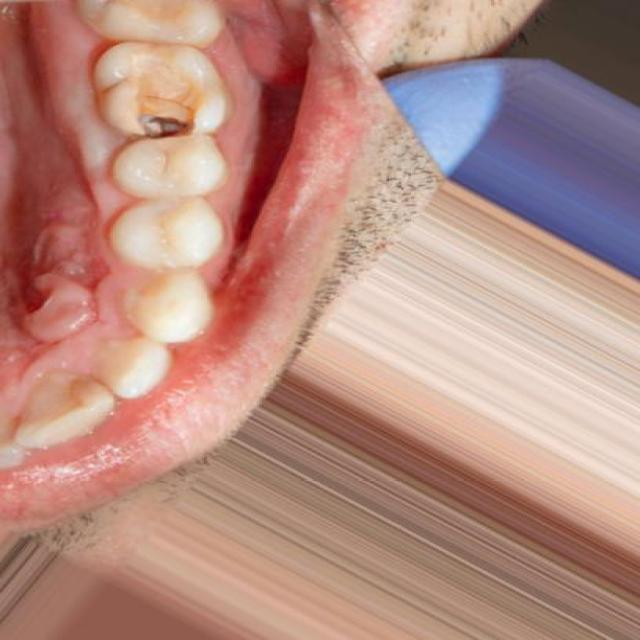caries: (106, 55, 224, 142)
